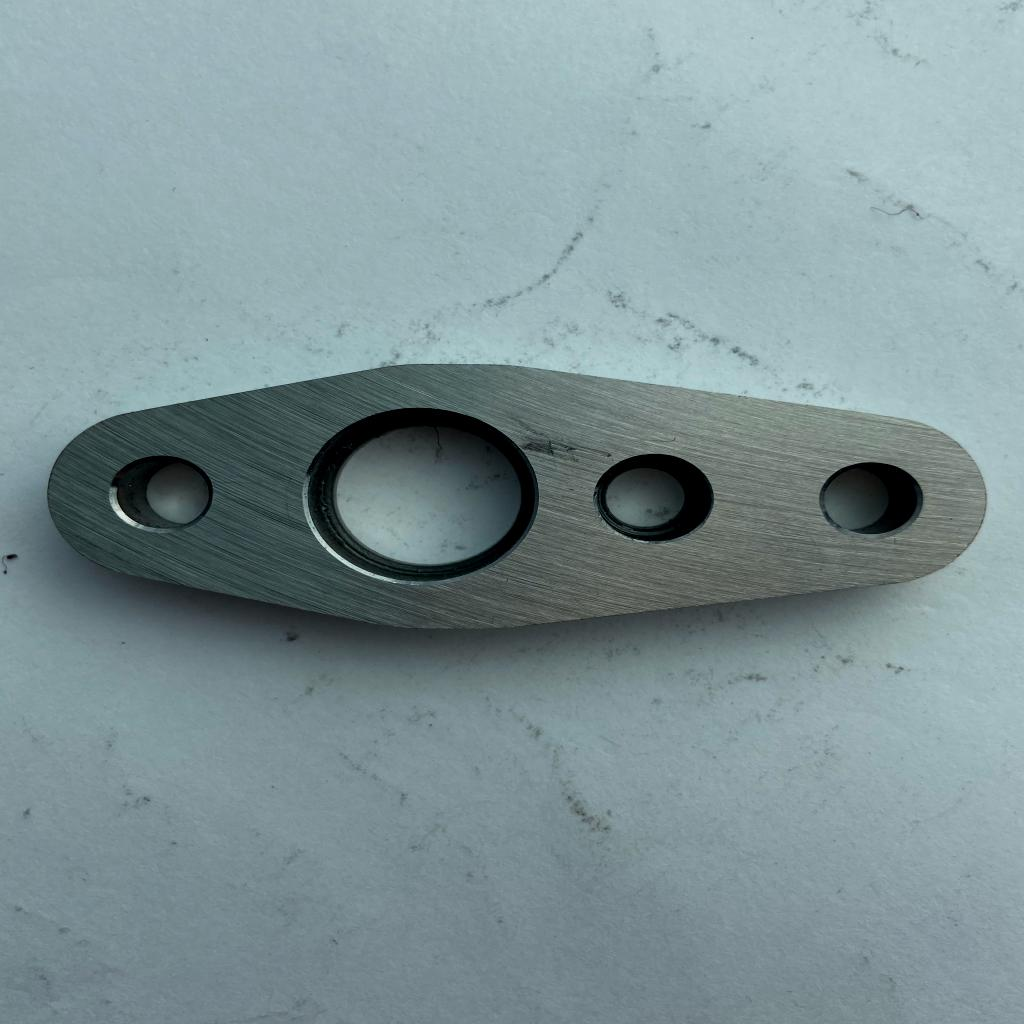lines: (520, 421, 614, 453)
